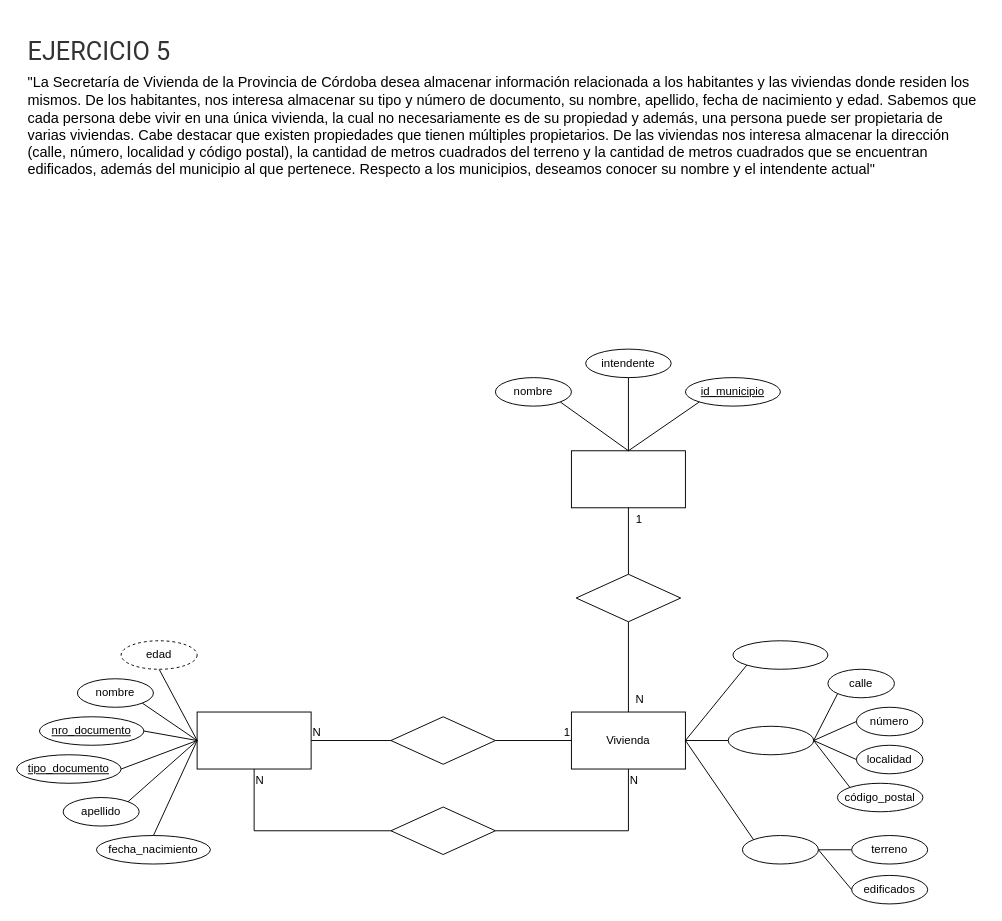
Image size: 1002x921. Some labels were removed from this diagram. The box of each missing label's shape, as (x1, y1, x2, y2) in pixels:
dirección: (727, 725, 814, 755)
es propietario: (390, 806, 495, 855)
Habitante: (196, 711, 311, 769)
id_vivienda: (732, 640, 828, 669)
m2: (741, 835, 818, 864)
Municipio: (570, 450, 685, 508)
pertenece: (575, 573, 681, 622)
vive: (390, 716, 495, 764)
